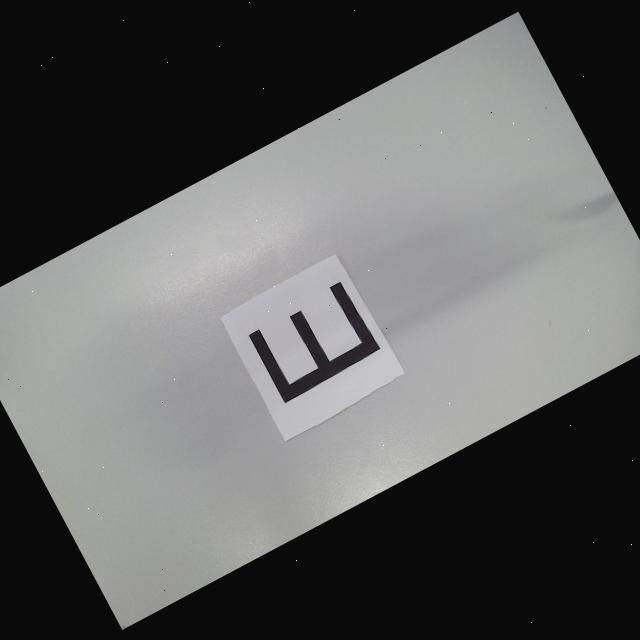FAKE: (245, 278, 382, 403)
